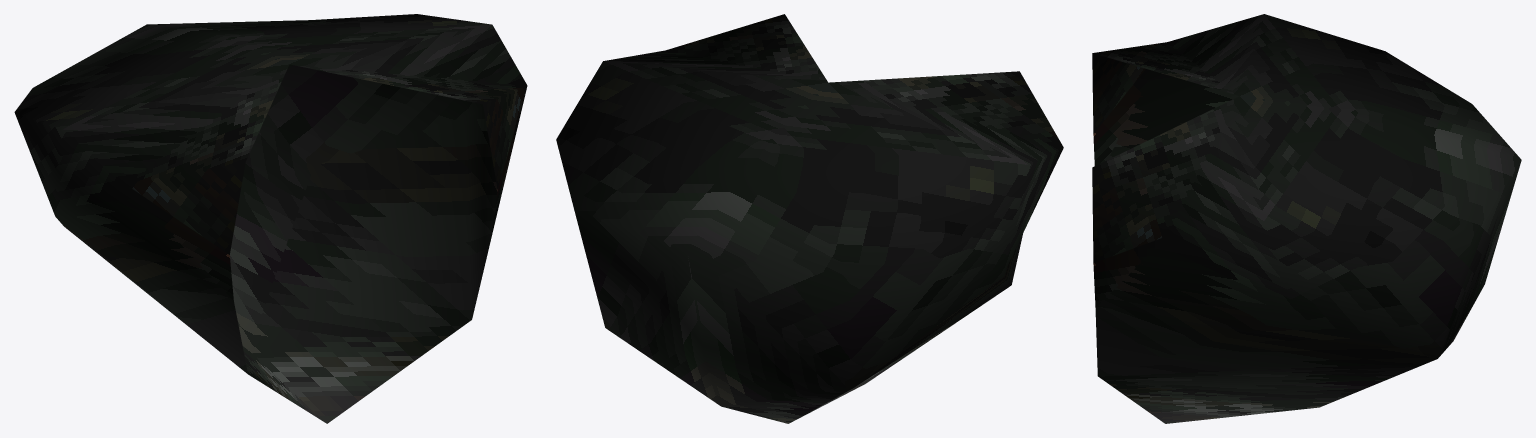
Rendered from pers_hair.dae.
3 renders of one model, left to right at view 1: azimuth 30°, elevation 25°; view 2: azimuth 150°, elevation 25°; view 3: azimuth 270°, elevation 25°, orthographic.
Visible parts, largest first — view 1: default001; view 2: default001; view 3: default001.
Boxes of the visible parts, left/top/right/bottom form: default001: left=14, top=14, right=527, bottom=423; default001: left=556, top=14, right=1063, bottom=423; default001: left=1092, top=14, right=1521, bottom=423.
Size of the model in its own units: 0.5729 by 0.4222 by 0.5013.
